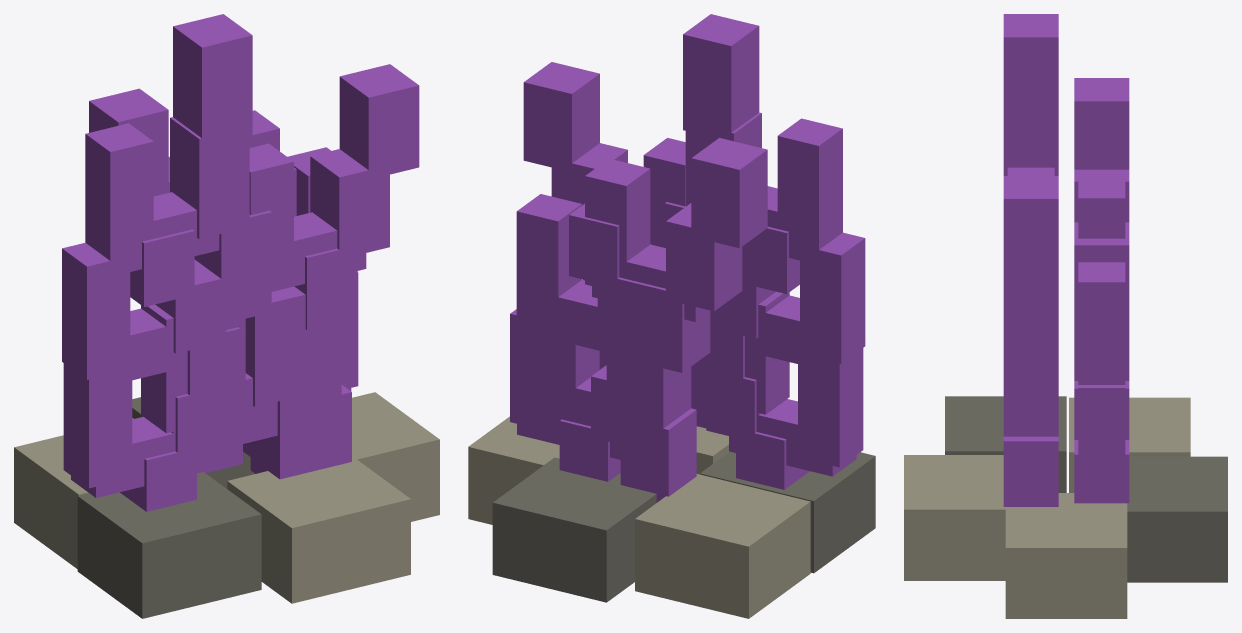
The model's file is coral_kit__coral_1.glb.
3 views of the same model, side by side, from view 1: azimuth 30°, elevation 25°; view 2: azimuth 150°, elevation 25°; view 3: azimuth 270°, elevation 25° (orthographic). The views are drawn at different scales.
Parts seen in each view (by area): view 1: coral_1__purple.001, coral_1__stone.001, coral_1__stone_dark.001; view 2: coral_1__purple.001, coral_1__stone.001, coral_1__stone_dark.001; view 3: coral_1__purple.001, coral_1__stone.001, coral_1__stone_dark.001.
Part boxes in pixels (x1,y1,x2,y2): coral_1__purple.001: (62, 14, 419, 511); coral_1__stone.001: (14, 392, 439, 603); coral_1__stone_dark.001: (77, 397, 261, 618); coral_1__purple.001: (510, 14, 865, 502); coral_1__stone.001: (468, 416, 810, 618); coral_1__stone_dark.001: (492, 451, 875, 602); coral_1__purple.001: (1003, 14, 1129, 506); coral_1__stone.001: (904, 397, 1190, 618); coral_1__stone_dark.001: (945, 396, 1227, 582).
Size of the model in its own units: 0.9739 by 1.39 by 0.8251.
